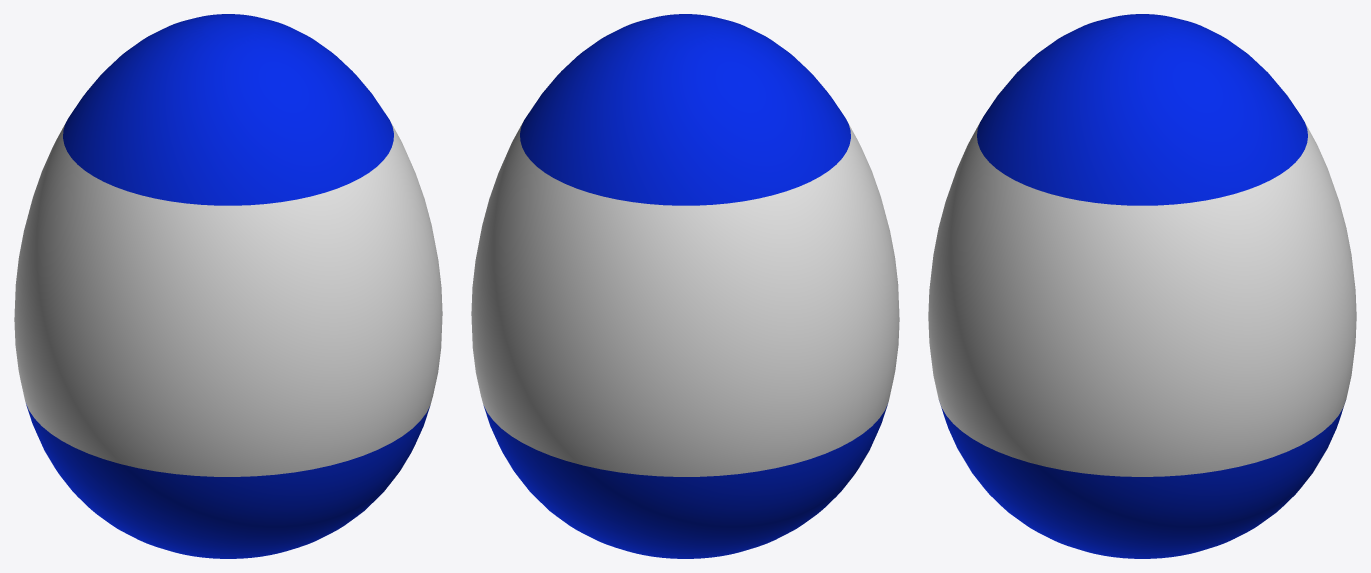
The model's file is egg2.glb.
3 renders of one model, left to right at view 1: azimuth 30°, elevation 25°; view 2: azimuth 150°, elevation 25°; view 3: azimuth 270°, elevation 25°, orthographic.
Parts seen in each view (by area): view 1: 12172_Egg_v1_l2.001; view 2: 12172_Egg_v1_l2.001; view 3: 12172_Egg_v1_l2.001.
Boxes of the visible parts, <box> form: 12172_Egg_v1_l2.001: <box>14,14,442,558</box>; 12172_Egg_v1_l2.001: <box>471,14,899,558</box>; 12172_Egg_v1_l2.001: <box>928,14,1356,558</box>.
Bounding box in the file's own units: 0.8176 × 1.08 × 0.8176.
